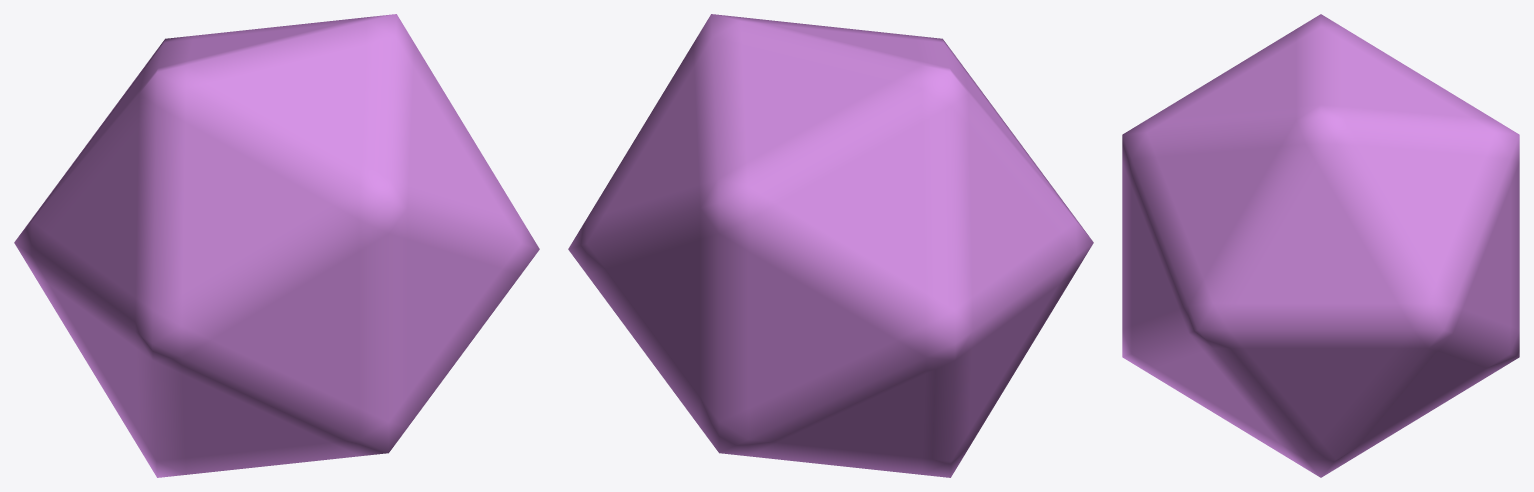
The picture shows the model from 3 angles, left to right: view 1: azimuth 30°, elevation 25°; view 2: azimuth 150°, elevation 25°; view 3: azimuth 270°, elevation 25°; orthographic projection. The views are drawn at different scales.
Parts seen in each view (by area): view 1: Solid; view 2: Solid; view 3: Solid.
Boxes of the visible parts, x1=… form: Solid: x1=14, y1=14, x2=539, y2=477; Solid: x1=568, y1=14, x2=1093, y2=477; Solid: x1=1122, y1=14, x2=1519, y2=477.
Bounding box in the file's own units: 170 × 170 × 170.
